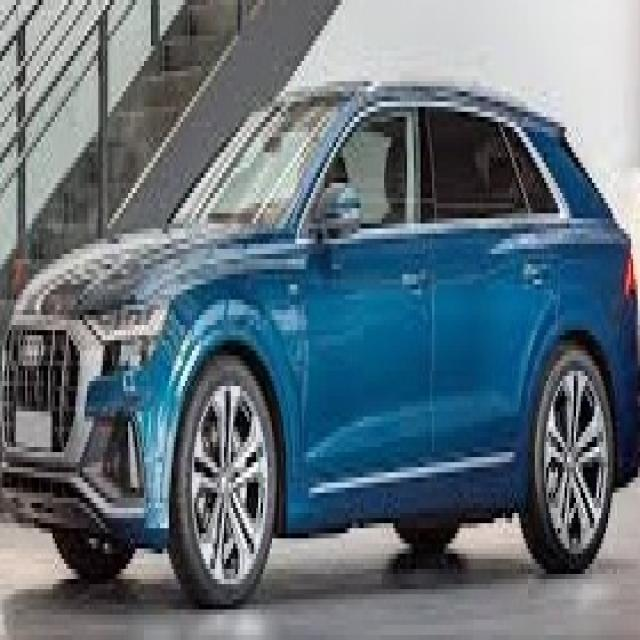blue: (2, 76, 640, 640)
